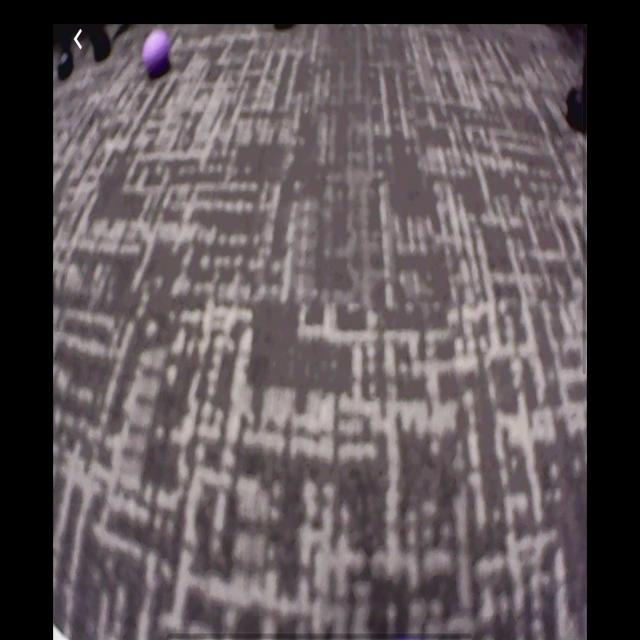ball: (143, 31, 172, 77)
